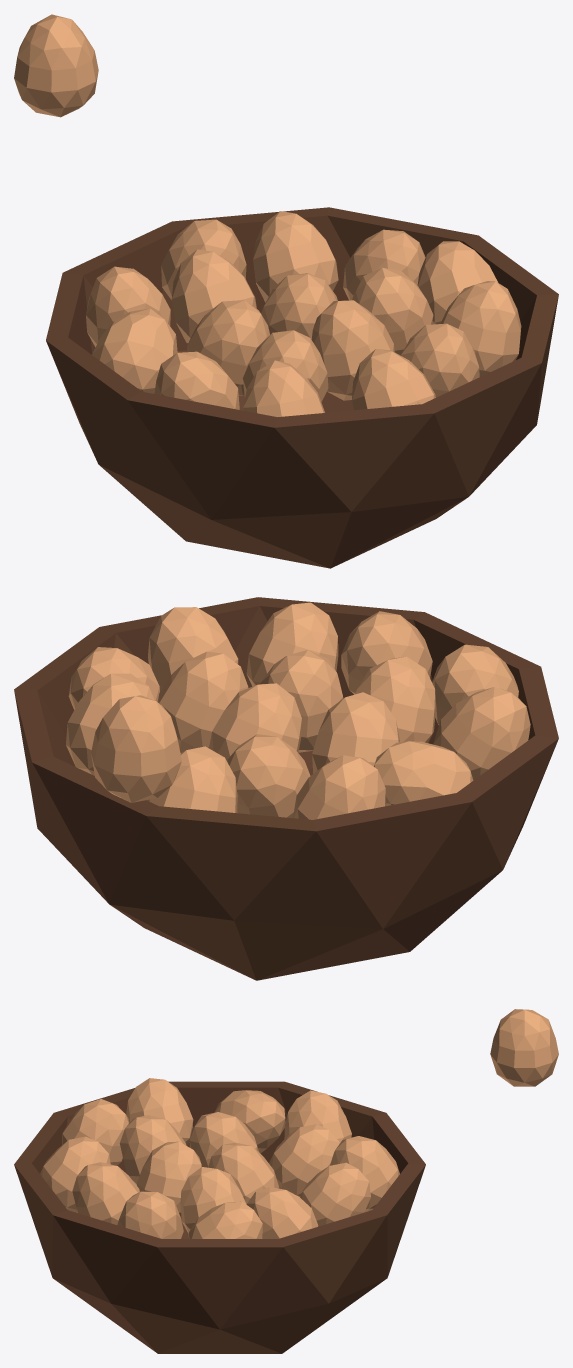
The model's file is EggBowl.fbx.
3 views of the same model, one above another, from view 1: azimuth 30°, elevation 25°; view 2: azimuth 150°, elevation 25°; view 3: azimuth 270°, elevation 25° (orthographic). The views are drawn at different scales.
Visible parts, largest first — view 1: Bowl, Egg.013, Egg.017; view 2: Bowl, Egg.013, Egg.017; view 3: Bowl, Egg.013, Egg.017.
Part boxes in pixels (left/top/right/bottom): Bowl: left=46, top=207, right=558, bottom=568; Egg.013: left=86, top=211, right=521, bottom=416; Egg.017: left=14, top=14, right=98, bottom=117; Bowl: left=14, top=597, right=558, bottom=980; Egg.013: left=66, top=602, right=530, bottom=819; Egg.017: left=91, top=695, right=181, bottom=802; Bowl: left=14, top=1081, right=425, bottom=1353; Egg.013: left=40, top=1078, right=399, bottom=1238; Egg.017: left=490, top=1009, right=558, bottom=1086.
Size of the model in its own units: 208 by 169 by 289.
